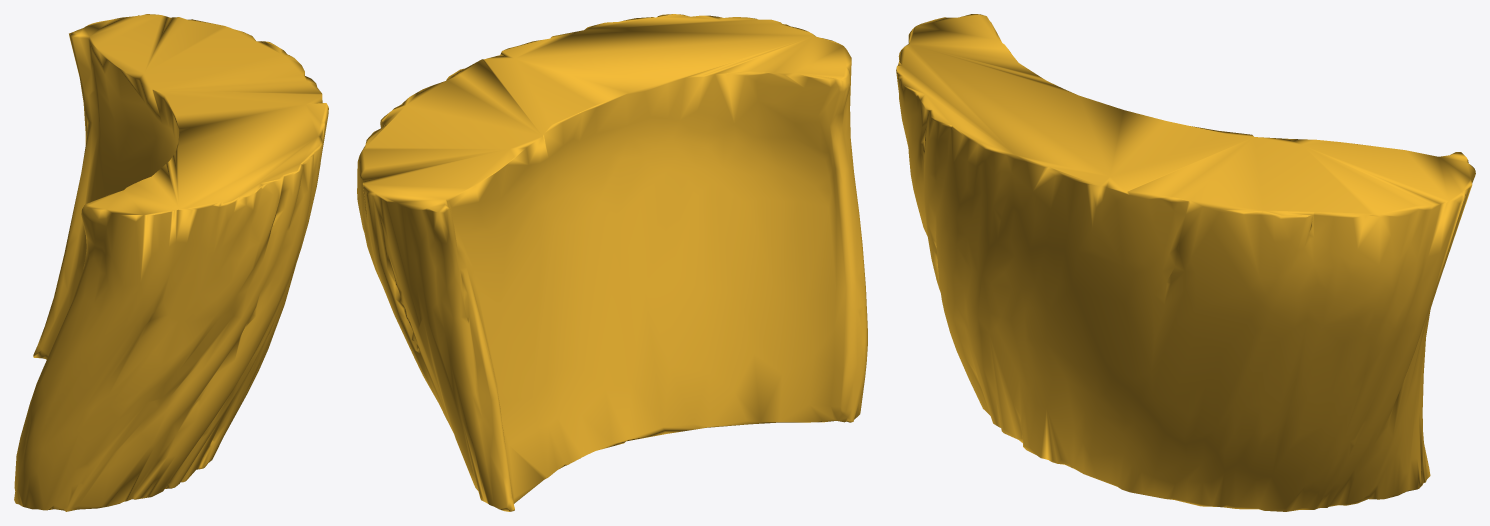
Rendered from nervoso-base-of-peduncle-l.glb.
3 renders of one model, left to right at view 1: azimuth 30°, elevation 25°; view 2: azimuth 150°, elevation 25°; view 3: azimuth 270°, elevation 25°, orthographic. The views are drawn at different scales.
Parts seen in each view (by area): view 1: Base of peduncle.l; view 2: Base of peduncle.l; view 3: Base of peduncle.l.
Part boxes in pixels (left/top/right/bottom): Base of peduncle.l: left=14, top=14, right=328, bottom=511; Base of peduncle.l: left=357, top=14, right=867, bottom=511; Base of peduncle.l: left=896, top=14, right=1475, bottom=511.
Bounding box in the file's own units: 0.0188 × 0.0163 × 0.0223.
